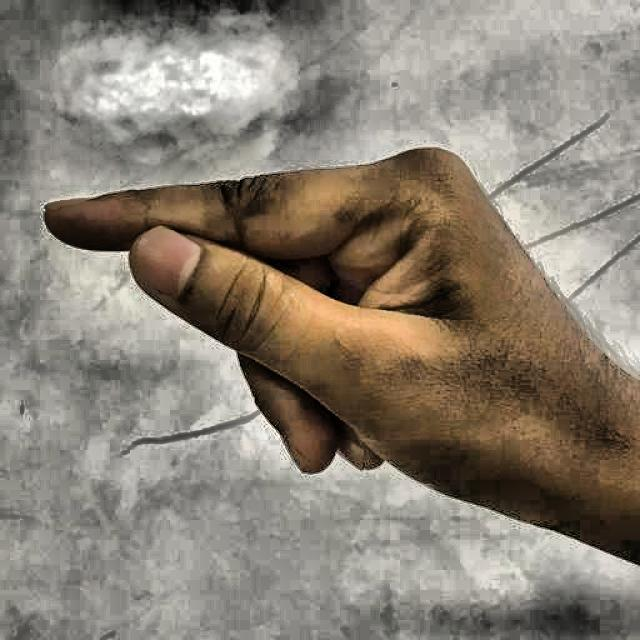Tha: (35, 103, 624, 577)
